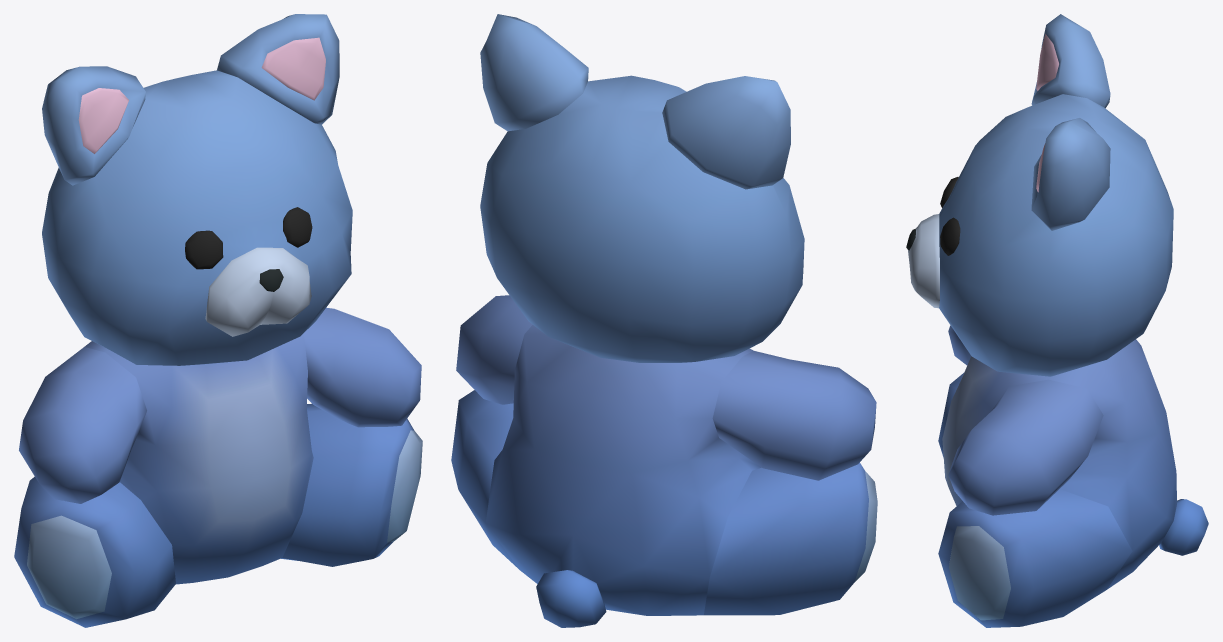
The model's file is Cat_01.fbx.
3 views of the same model, side by side, from view 1: azimuth 30°, elevation 25°; view 2: azimuth 150°, elevation 25°; view 3: azimuth 270°, elevation 25° (orthographic). The views are drawn at different scales.
Parts seen in each view (by area): view 1: Cat_01; view 2: Cat_01; view 3: Cat_01.
Boxes of the visible parts, left/top/right/bottom form: Cat_01: left=14, top=14, right=422, bottom=627; Cat_01: left=451, top=14, right=877, bottom=627; Cat_01: left=906, top=14, right=1208, bottom=627.
Bounding box in the file's own units: 32.81 × 23.55 × 42.7.
